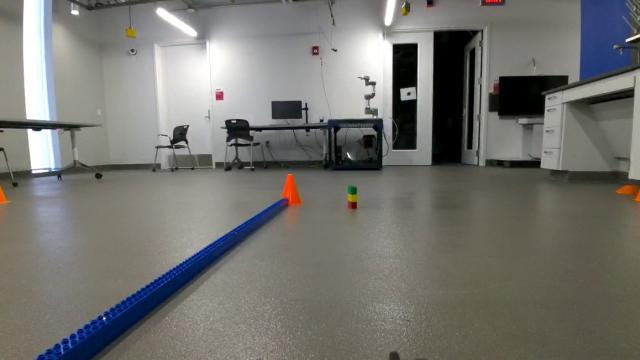lego: (344, 178, 364, 219)
